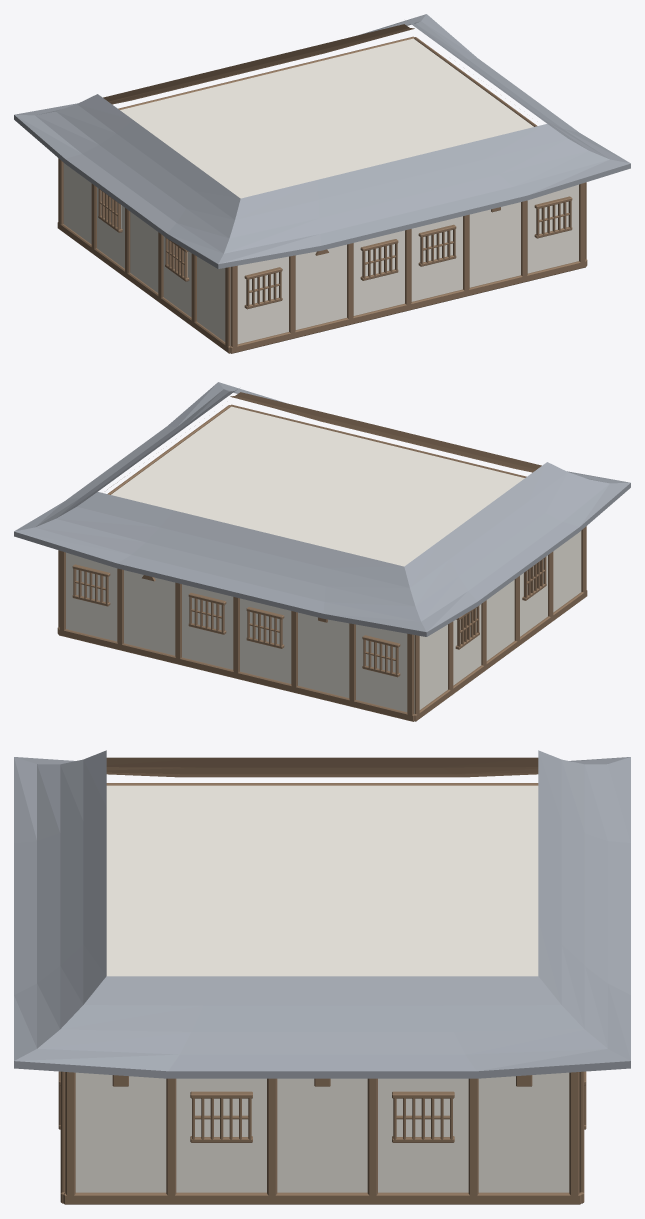
File: feudal-japan-castle-town-keep-tier-1-c73731cf__26539.glb
3 renders of one model, top to bottom at view 1: azimuth 30°, elevation 25°; view 2: azimuth 150°, elevation 25°; view 3: azimuth 270°, elevation 25°, orthographic. The views are drawn at different scales.
Visible parts, largest first — view 1: keep-tier-1; view 2: keep-tier-1; view 3: keep-tier-1.
Boxes of the visible parts, left/top/right/bottom form: keep-tier-1: left=14, top=14, right=630, bottom=353; keep-tier-1: left=14, top=382, right=630, bottom=721; keep-tier-1: left=14, top=750, right=630, bottom=1204.
Bounding box in the file's own units: 14 × 4.5 × 12.
